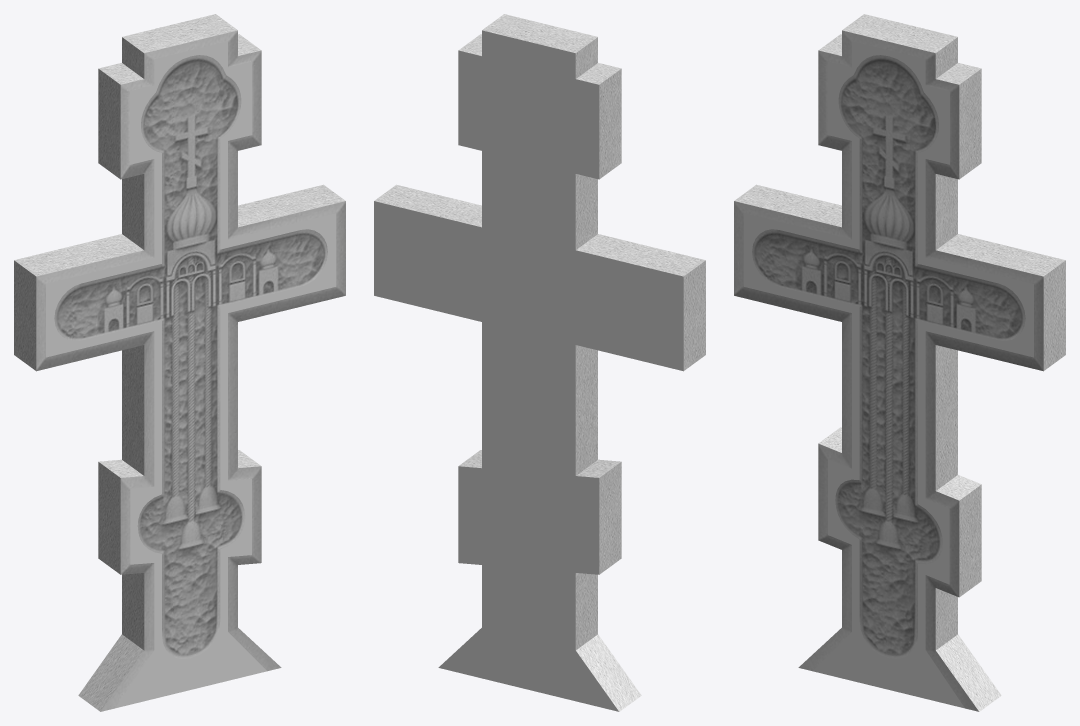
File: cn774829709f_tkf.glb
3 renders of one model, left to right at view 1: azimuth 30°, elevation 25°; view 2: azimuth 150°, elevation 25°; view 3: azimuth 330°, elevation 25°, orthographic.
Visible parts, largest first — view 1: Pam-d02-067_2_notexture, Pam-d02-067; view 2: Pam-d02-067, Pam-d02-067_2_notexture; view 3: Pam-d02-067_2_notexture, Pam-d02-067.
Part boxes in pixels (left/top/right/bottom): Pam-d02-067_2_notexture: left=14, top=14, right=345, bottom=711; Pam-d02-067: left=46, top=41, right=336, bottom=708; Pam-d02-067: left=374, top=30, right=683, bottom=711; Pam-d02-067_2_notexture: left=374, top=14, right=705, bottom=711; Pam-d02-067_2_notexture: left=734, top=14, right=1065, bottom=711; Pam-d02-067: left=743, top=41, right=1033, bottom=708.
Size of the model in its own units: 0.4 by 0.8 by 0.05.
Materials: 1 (1 with a texture image).
